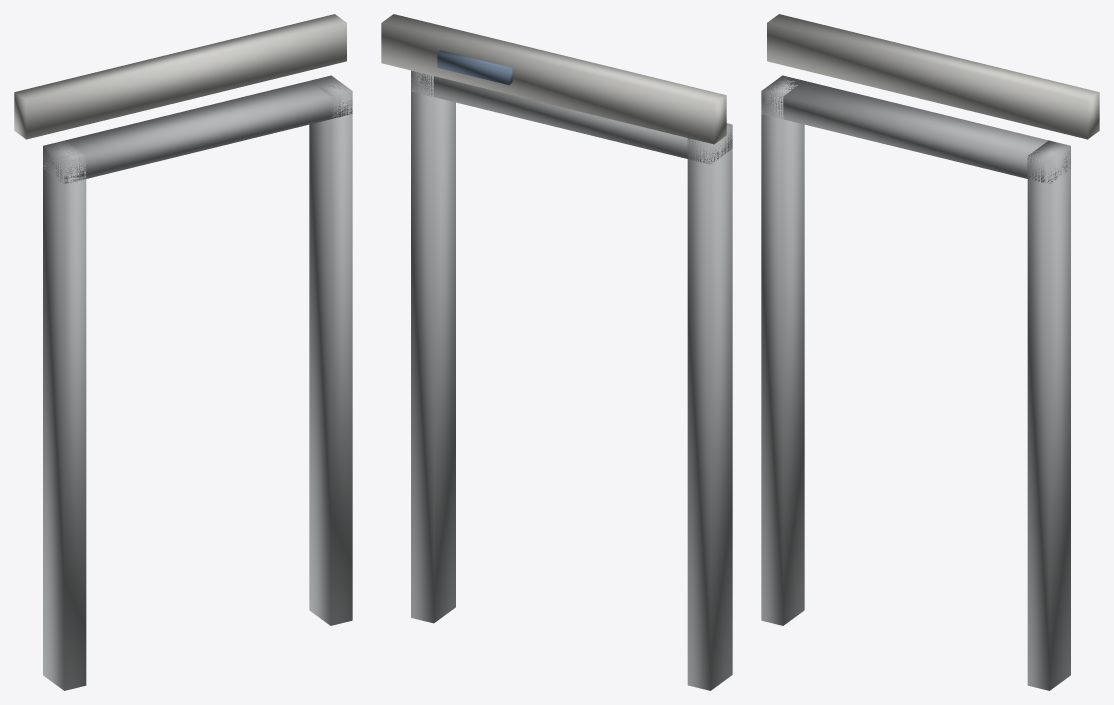
The model's file is doorway_hospital_w106_h210_d16.glb.
3 views of the same model, side by side, from view 1: azimuth 30°, elevation 25°; view 2: azimuth 150°, elevation 25°; view 3: azimuth 330°, elevation 25° (orthographic). The views are drawn at different scales.
Parts seen in each view (by area): view 1: world; view 2: world; view 3: world.
Part boxes in pixels (x1,y1,x2,y2): world: [14, 14, 352, 690]; world: [381, 14, 732, 690]; world: [761, 14, 1099, 690].
Size of the model in its own units: 1.39 by 2.4 by 0.28.
